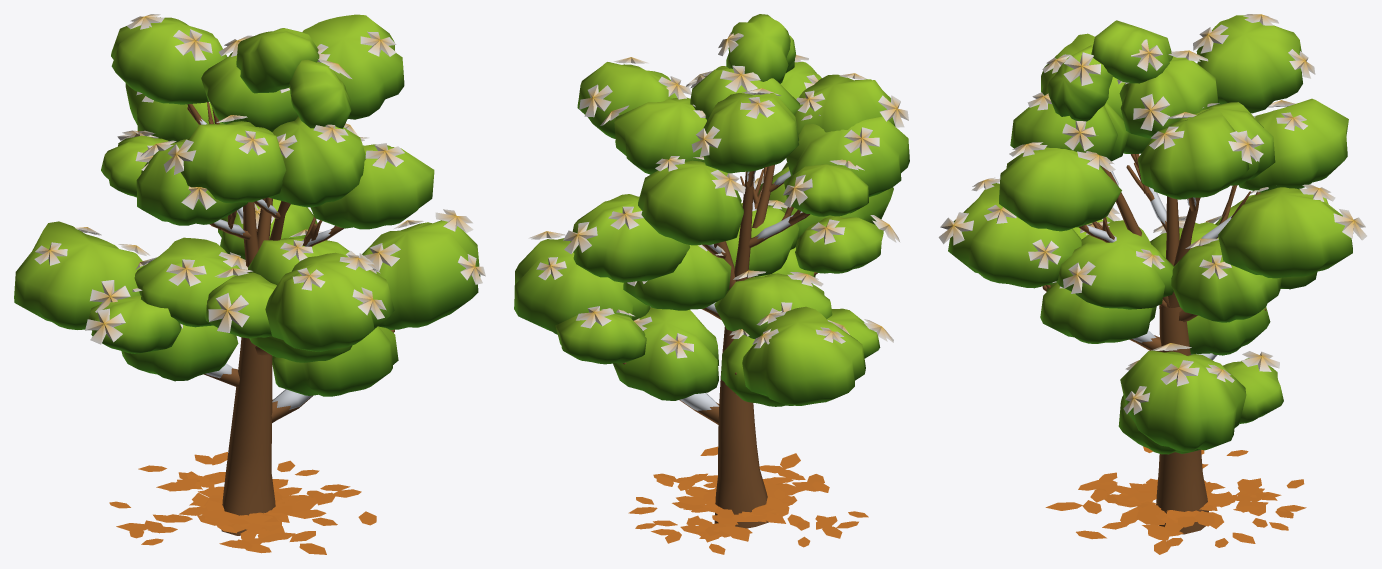
The model's file is tree.glb.
3 views of the same model, side by side, from view 1: azimuth 30°, elevation 25°; view 2: azimuth 150°, elevation 25°; view 3: azimuth 270°, elevation 25° (orthographic). The views are drawn at different scales.
Visible parts, largest first — view 1: TownToonTree; view 2: TownToonTree; view 3: TownToonTree.
Part boxes in pixels (x1=…): TownToonTree: x1=14, y1=14, x2=485, y2=554; TownToonTree: x1=514, y1=14, x2=909, y2=554; TownToonTree: x1=938, y1=14, x2=1366, y2=554.
Bounding box in the file's own units: 12.1 × 14.56 × 11.32.
